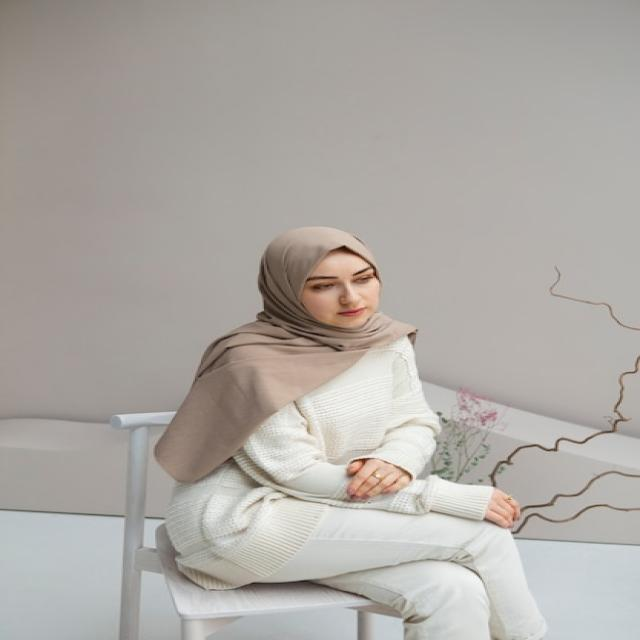Person: (153, 227, 547, 640)
